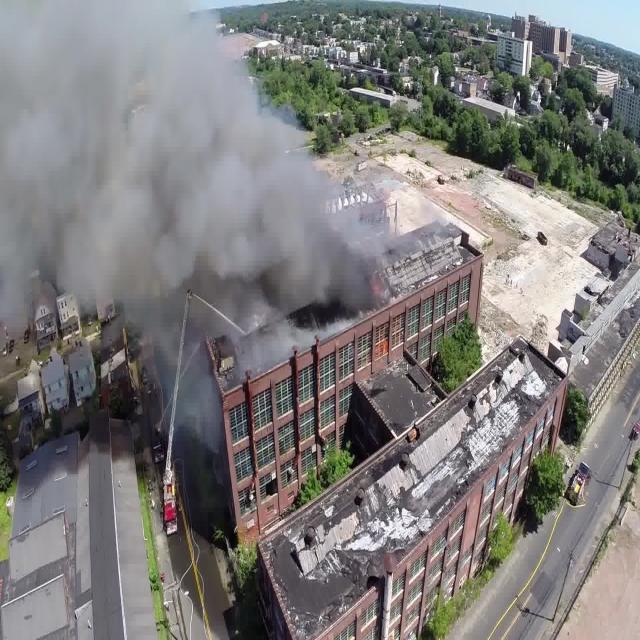Smoke: (0, 0, 402, 320)
